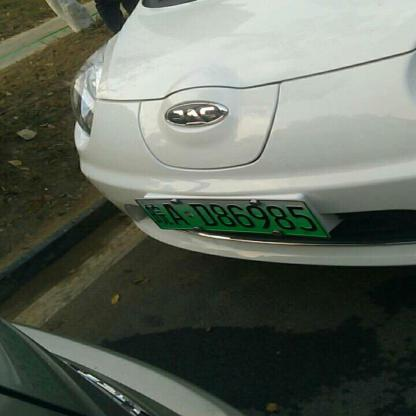lp: (136, 198, 328, 238)
